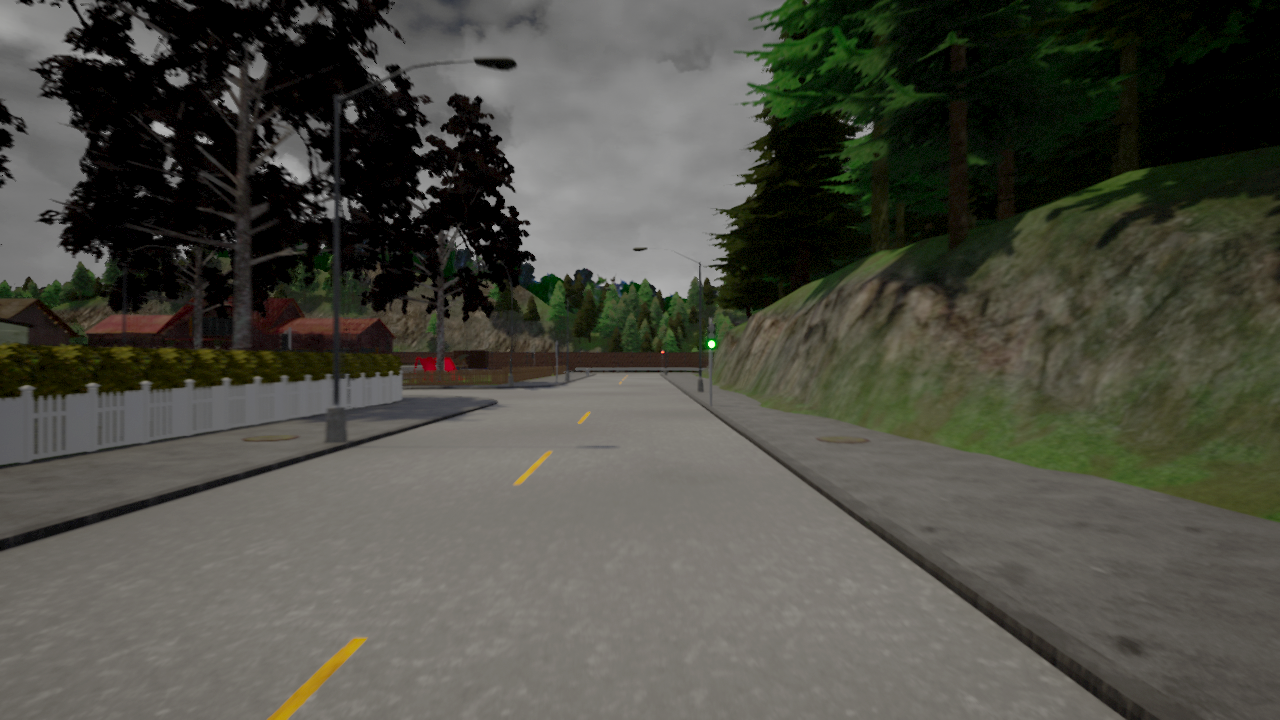green: (706, 323, 718, 350)
